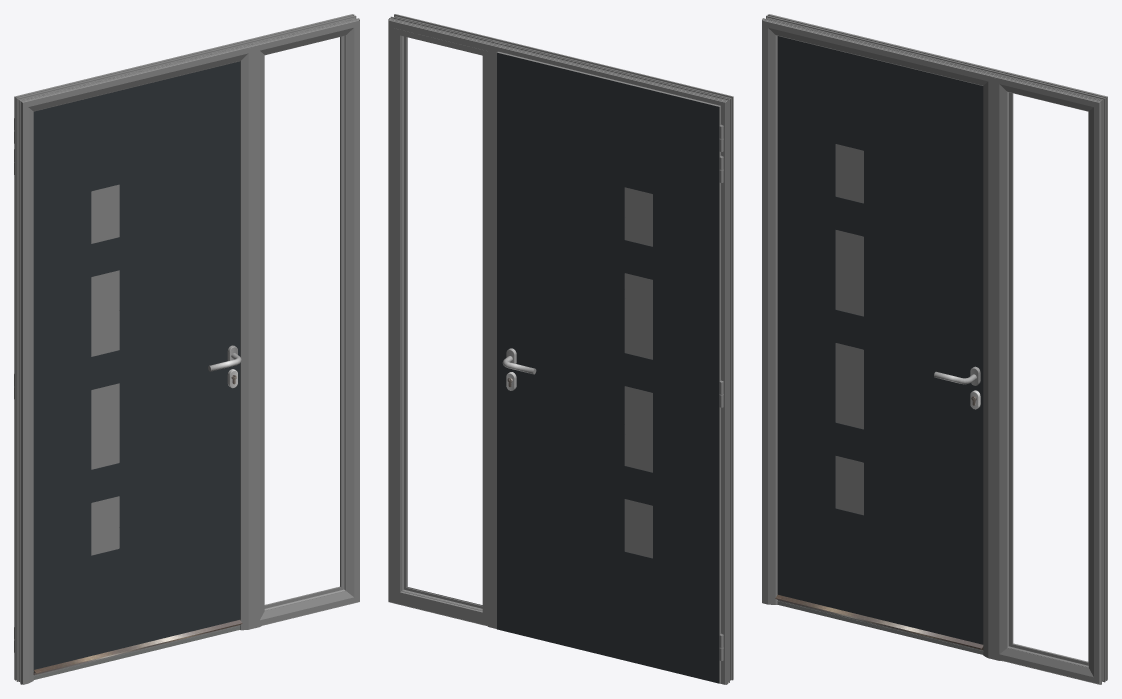
3 views of the same model, side by side, from view 1: azimuth 30°, elevation 25°; view 2: azimuth 150°, elevation 25°; view 3: azimuth 330°, elevation 25° (orthographic).
Parts seen in each view (by area): view 1: bloco_144, Rectangle002, Line004, Vidro Porta, Object, Object001, Line005, Rectangle005, Rectangle003; view 2: bloco_144, Rectangle002, Rectangle003, Vidro Porta, Line004, Object001, Rectangle004, Object; view 3: bloco_144, Rectangle002, Line004, Vidro Porta, Object001, Object, Line005, Rectangle003, Rectangle005.
Boxes of the visible parts, bbox=[...] form: bloco_144: bbox=[33, 61, 240, 671]; Rectangle002: bbox=[14, 14, 359, 684]; Line004: bbox=[240, 46, 264, 630]; Vidro Porta: bbox=[91, 184, 119, 555]; Object: bbox=[33, 35, 346, 680]; Object001: bbox=[264, 36, 344, 608]; Line005: bbox=[33, 620, 242, 674]; Rectangle005: bbox=[33, 625, 240, 679]; Rectangle003: bbox=[264, 37, 340, 605]; bloco_144: bbox=[497, 52, 719, 683]; Rectangle002: bbox=[388, 14, 733, 684]; Rectangle003: bbox=[394, 28, 487, 619]; Vidro Porta: bbox=[624, 187, 652, 558]; Line004: bbox=[488, 41, 504, 628]; Object001: bbox=[401, 36, 482, 610]; Rectangle004: bbox=[496, 51, 720, 683]; Object: bbox=[404, 36, 482, 608]; bloco_144: bbox=[777, 36, 983, 644]; Rectangle002: bbox=[762, 14, 1107, 684]; Line004: bbox=[983, 77, 1007, 661]; Vidro Porta: bbox=[835, 144, 863, 515]; Object001: bbox=[1007, 92, 1088, 665]; Object: bbox=[776, 35, 1088, 667]; Line005: bbox=[775, 595, 983, 649]; Rectangle003: bbox=[1012, 93, 1087, 662]; Rectangle005: bbox=[777, 600, 983, 654].
Size of the model in its own units: 1307 by 2150 by 192.
Materials: 7 (4 with a texture image).
